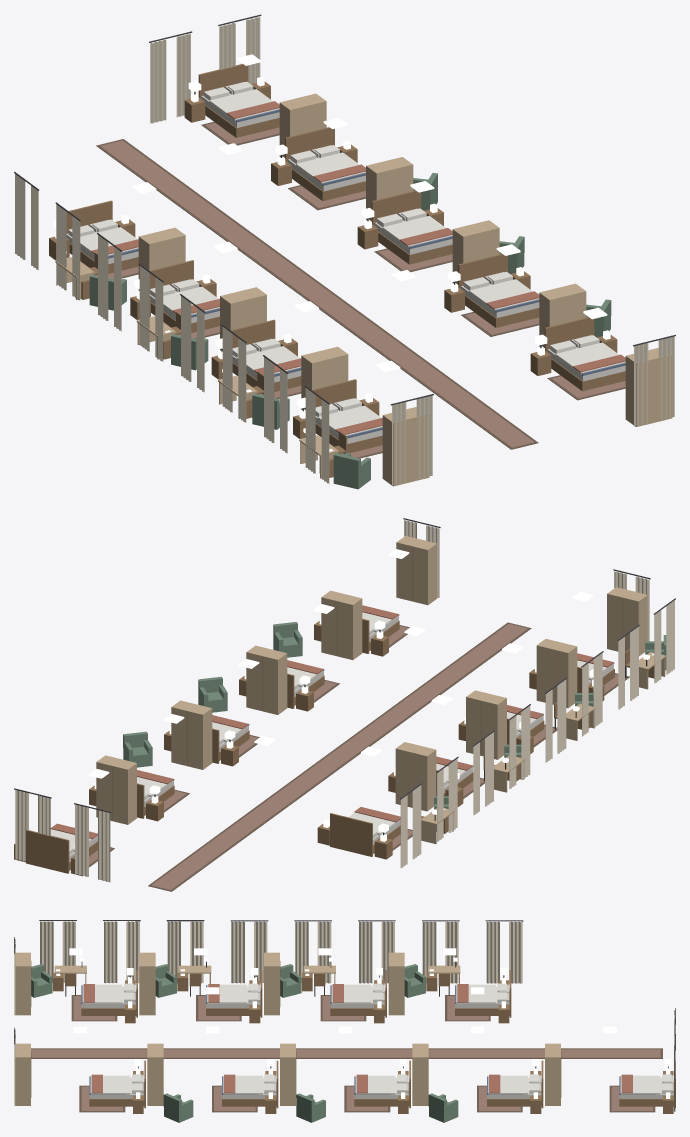
The model's file is fine-s8.glb.
3 renders of one model, top to bottom at view 1: azimuth 30°, elevation 25°; view 2: azimuth 150°, elevation 25°; view 3: azimuth 270°, elevation 25°, orthographic. The views are drawn at different scales.
Parts seen in each view (by area): view 1: soft-s8, dresser.066, dresser.071, bed-frame.069, bed-frame.071, bed-frame.067, bed-frame.070, bed-frame.068, dresser.069, dresser.067, dresser.070, dresser.068 (+8 smaller); view 2: soft-s8, dresser.070, dresser.068, dresser.069, dresser.071, dresser.067, dresser.063, dresser.065, dresser.064, dresser.066, bed-frame.063, bed-frame.067 (+6 smaller); view 3: soft-s8, dresser.065, dresser.063, dresser.068, dresser.070, dresser.064, dresser.066, dresser.067, dresser.069, dresser.071, bed-frame.068, bed-frame.070 (+17 smaller).
Boxes of the visible parts, x1,y1,x2,y2 form: soft-s8: (14,14,675,485); dresser.066: (382,407,429,486); dresser.071: (625,348,672,426); bed-frame.069: (371,190,452,264); bed-frame.071: (544,317,625,391); bed-frame.067: (198,63,279,137); bed-frame.070: (458,253,539,327); bed-frame.068: (285,127,365,200); dresser.069: (452,220,499,284); dresser.067: (279,93,326,157); dresser.070: (539,283,586,347); dresser.068: (366,157,413,221); soft-s8: (14,518,675,891); dresser.070: (321,590,362,659); dresser.068: (171,700,212,769); dresser.069: (246,645,287,714); dresser.071: (396,536,437,605); dresser.067: (96,755,136,824); dresser.063: (395,742,436,811); dresser.065: (536,639,577,708); dresser.064: (466,690,506,759); dresser.066: (607,587,647,656); bed-frame.063: (330,813,400,856); bed-frame.067: (26,830,97,873); soft-s8: (14,920,675,1112); dresser.065: (139,952,155,1015); dresser.063: (388,952,404,1015); dresser.068: (412,1043,428,1105); dresser.070: (147,1043,163,1105); dresser.064: (264,952,280,1015); dresser.066: (15,952,31,1015); dresser.067: (545,1043,561,1105); dresser.069: (280,1043,296,1105); dresser.071: (15,1043,31,1105); bed-frame.068: (487,1060,543,1108); bed-frame.070: (222,1060,278,1108).
Size of the model in its own units: 12.27 by 2.61 by 24.6.
